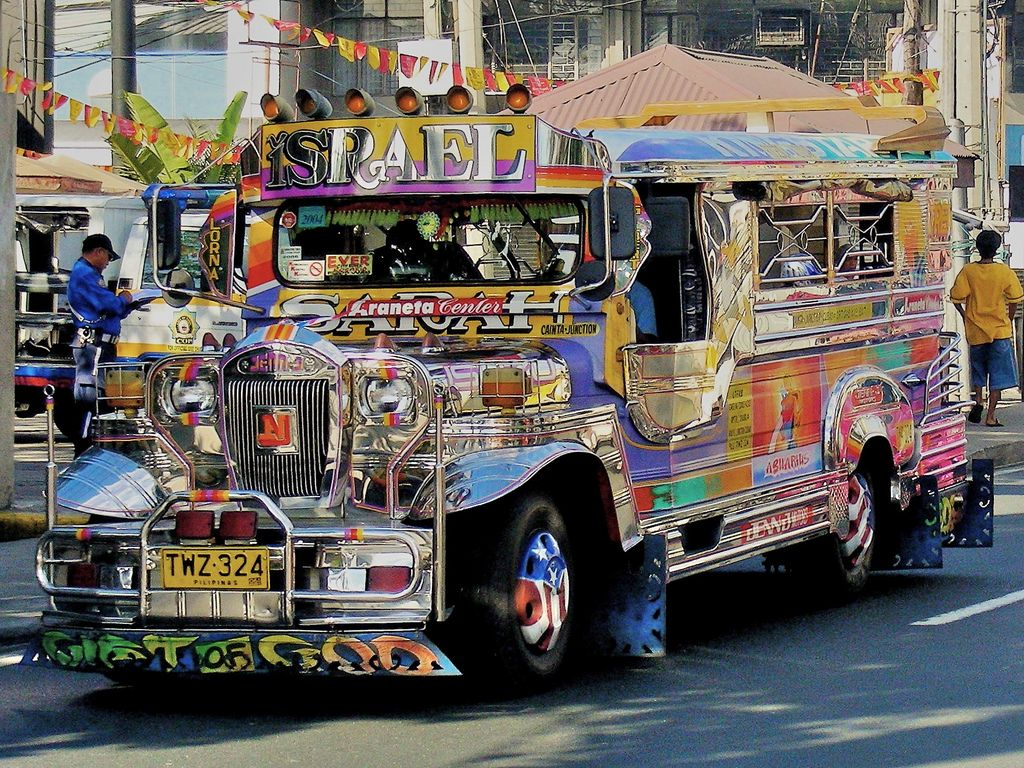Vehicle: (50, 87, 993, 675)
